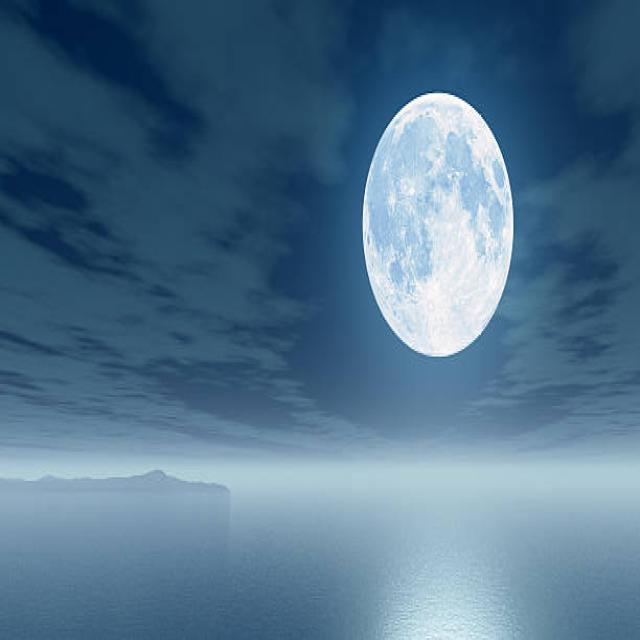moon: (363, 94, 514, 358)
